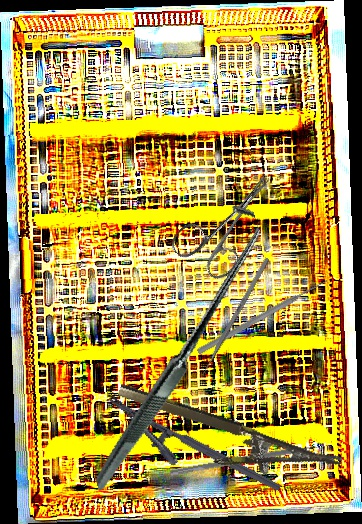Hook Surgical: (28, 200, 321, 491)
Iris Scissors: (167, 154, 292, 288)
Needle Holder: (107, 381, 343, 502), (96, 394, 283, 516)
Pusher: (196, 276, 329, 357), (196, 257, 270, 384)
Spatula Surgical: (170, 440, 325, 483)
